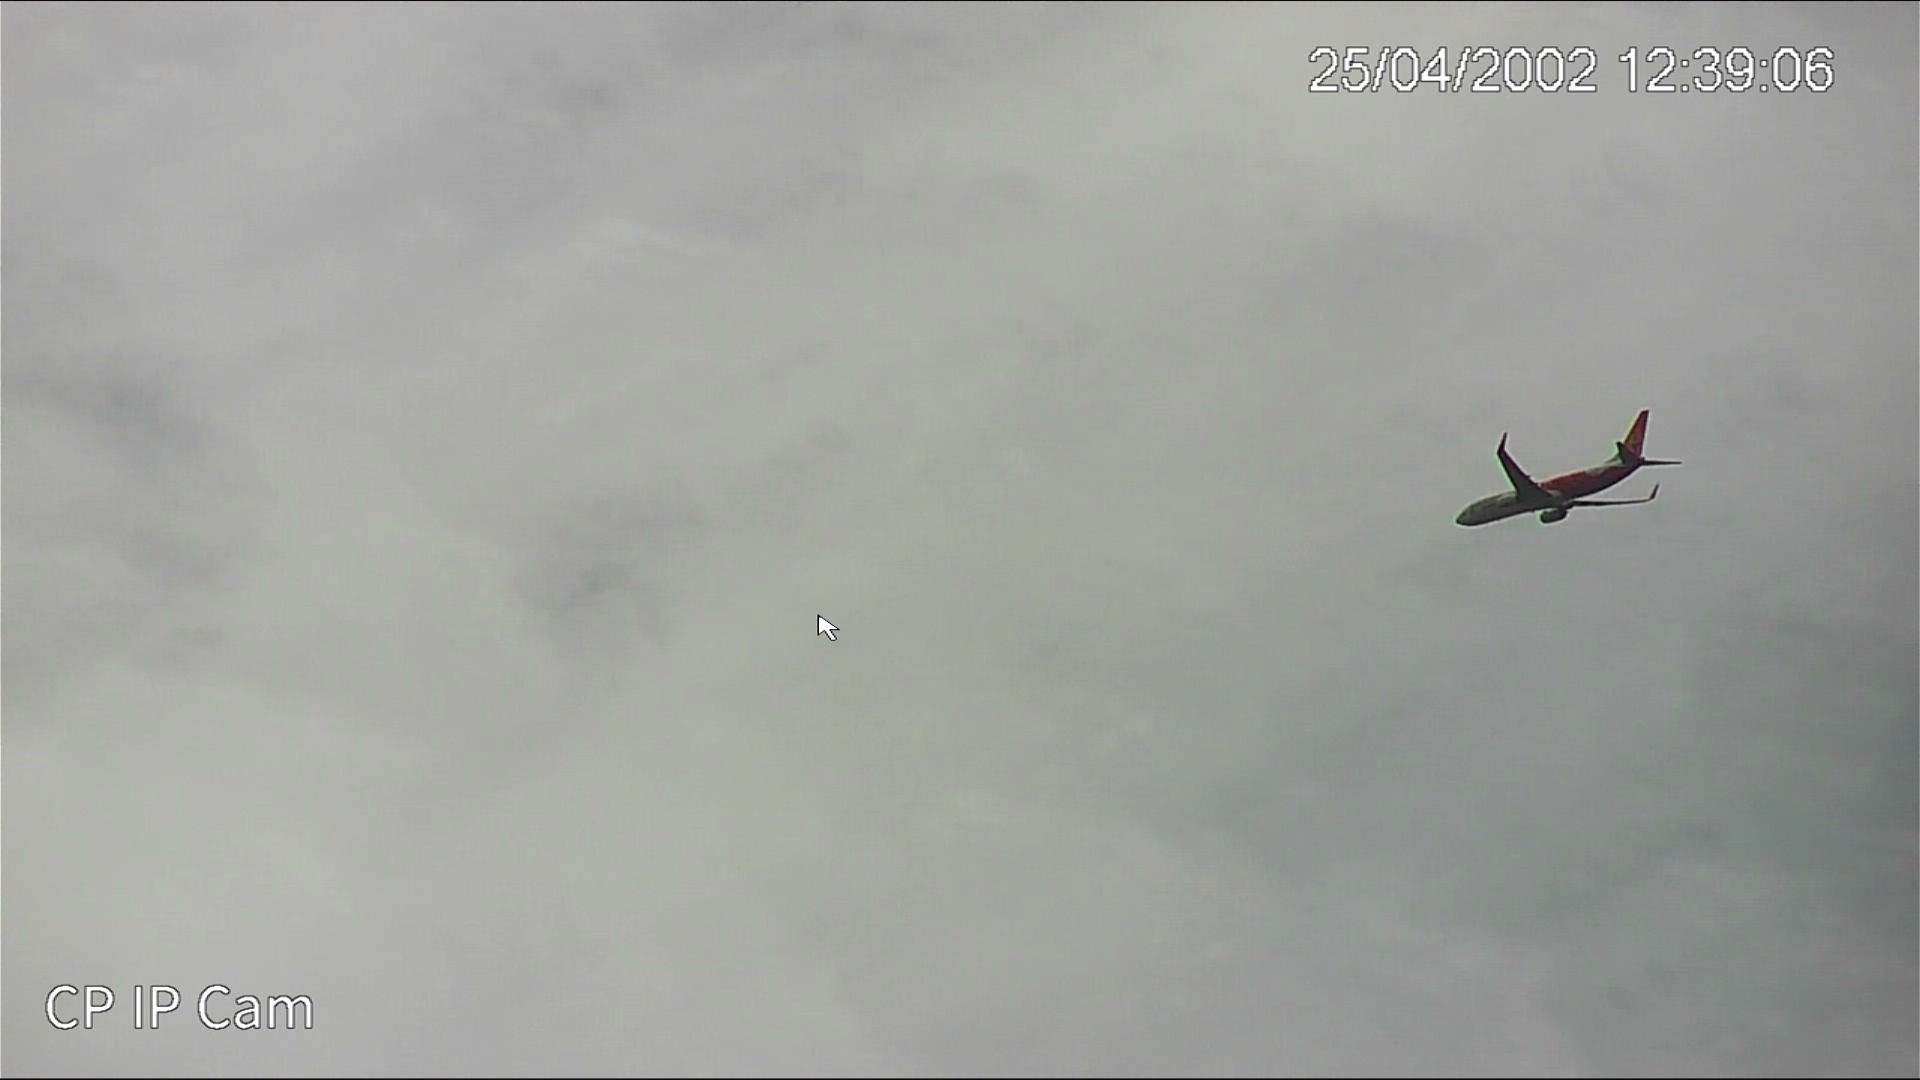SU_30: (1449, 413, 1692, 529)
